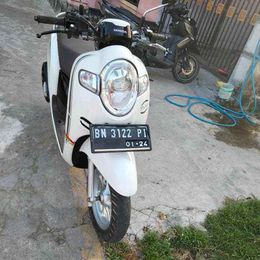plate: (88, 121, 153, 152)
